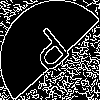P: (25, 25, 78, 82)
